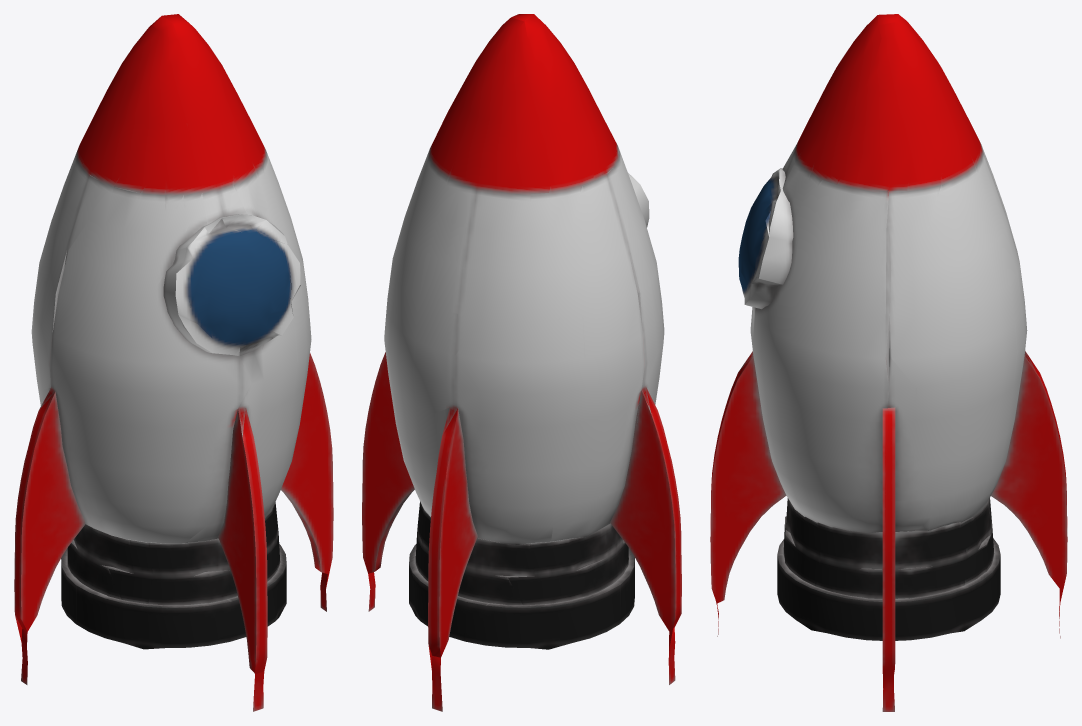
File: rocket.glb
3 views of the same model, side by side, from view 1: azimuth 30°, elevation 25°; view 2: azimuth 150°, elevation 25°; view 3: azimuth 270°, elevation 25° (orthographic).
Visible parts, largest first — view 1: mesh; view 2: mesh; view 3: mesh.
Part boxes in pixels (x1,y1,x2,y2): mesh: [14, 14, 333, 711]; mesh: [362, 14, 681, 711]; mesh: [710, 14, 1067, 711].
Bounding box in the file's own units: 1.26 × 2.43 × 1.26.
Materials: 1 (1 with a texture image).
